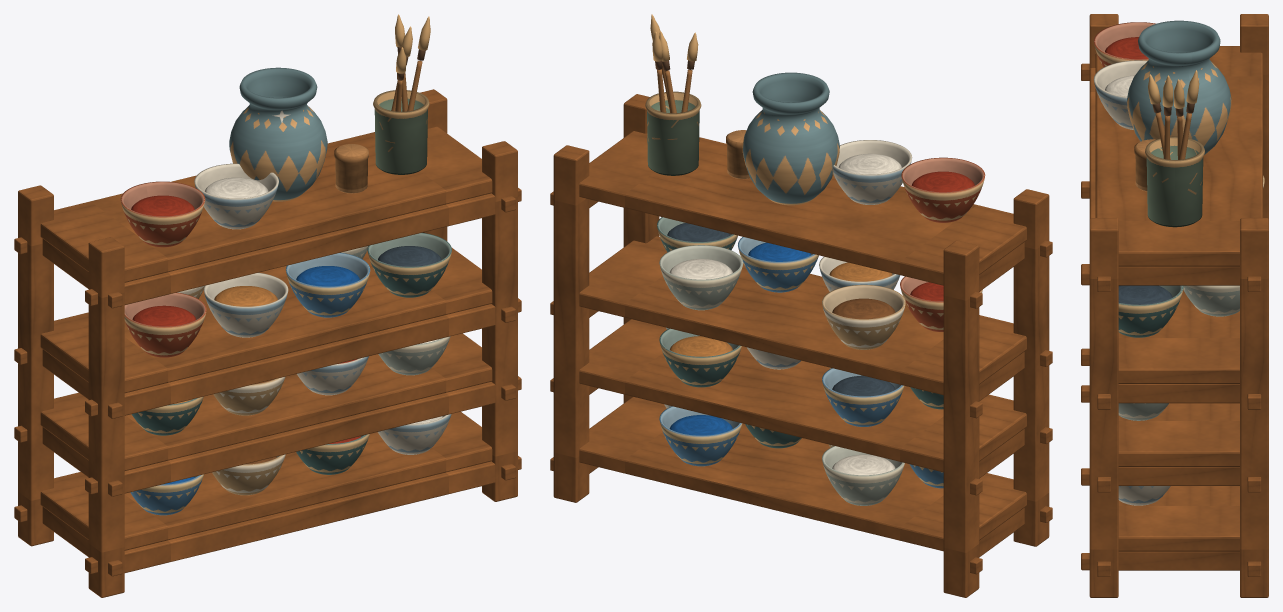
File: 调料架.glb
3 renders of one model, left to right at view 1: azimuth 30°, elevation 25°; view 2: azimuth 150°, elevation 25°; view 3: azimuth 270°, elevation 25°, orthographic. The views are drawn at different scales.
Parts seen in each view (by area): view 1: plank_3, plank_2, plank_0, plank_1, post_-1-1, post_-11, post_1-1, vase, frail_2, frail_3, frail_0, frail_1 (+27 smaller); view 2: plank_3, plank_2, plank_0, plank_1, post_-11, post_11, post_-1-1, vase, holder, bowl_pale, bowl_tan, bowl_red (+27 smaller); view 3: plank_3, post_1-1, post_11, vase, plank_2, plank_0, plank_1, holder, srail_0_1, srail_2_1, srail_3_1, srail_1_1 (+18 smaller).
Part boxes in pixels (x1,y1,x2,y2): plank_3: (40,126,492,282); plank_2: (40,248,492,393); plank_0: (40,411,492,550); plank_1: (40,333,492,470); post_-1-1: (88,237,124,597); post_-11: (18,185,53,546); post_1-1: (482,141,517,501); vase: (229,67,327,201); frail_2: (124,304,495,415); frail_3: (124,193,495,304); frail_0: (124,461,495,572); frail_1: (124,382,495,493); plank_3: (579,131,1026,285); plank_2: (579,236,1026,395); plank_0: (579,396,1026,551); plank_1: (579,319,1026,472); post_-11: (943,240,979,597); post_11: (553,145,589,502); post_-1-1: (1013,189,1049,546); vase: (742,72,839,205); holder: (645,91,701,175); bowl_pale: (659,245,743,310); bowl_tan: (822,284,905,349); bowl_red: (901,157,985,222); plank_3: (1095,46,1262,266); post_1-1: (1089,218,1118,597); post_11: (1240,218,1268,597); vase: (1127,20,1231,154); plank_2: (1118,290,1239,383); plank_0: (1118,486,1239,551); plank_1: (1118,403,1239,466); holder: (1145,136,1204,227); srail_0_1: (1118,551,1239,570); srail_2_1: (1118,384,1239,403); srail_3_1: (1118,266,1239,285); srail_1_1: (1118,467,1239,485).
Size of the model in its own units: 1.24 by 1.28 by 0.44.
19 materials, 17 textured.
